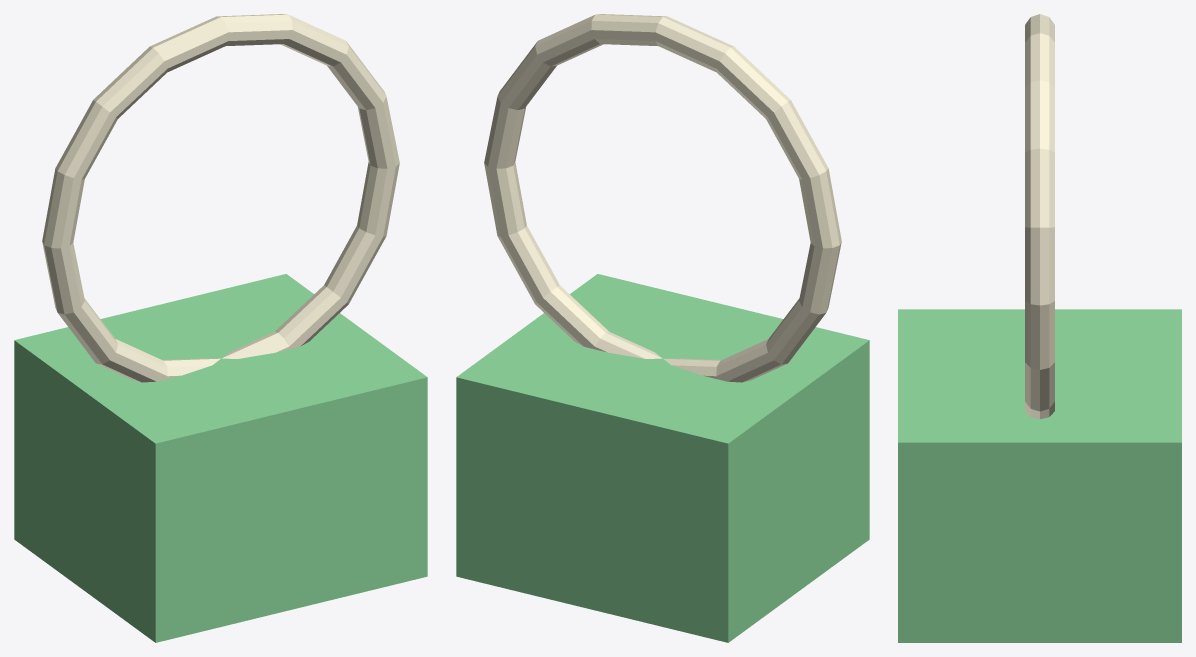
The model's file is pickup.castle-gate.v1.glb.
3 renders of one model, left to right at view 1: azimuth 30°, elevation 25°; view 2: azimuth 150°, elevation 25°; view 3: azimuth 270°, elevation 25°, orthographic.
Visible parts, largest first — view 1: pickup.castle-gate.v1_core, pickup.castle-gate.v1_trim; view 2: pickup.castle-gate.v1_core, pickup.castle-gate.v1_trim; view 3: pickup.castle-gate.v1_core, pickup.castle-gate.v1_trim.
Part boxes in pixels (x1=…): pickup.castle-gate.v1_core: x1=14, y1=274, x2=427, y2=642; pickup.castle-gate.v1_trim: x1=42, y1=14, x2=399, y2=382; pickup.castle-gate.v1_core: x1=456, y1=274, x2=869, y2=642; pickup.castle-gate.v1_trim: x1=484, y1=14, x2=841, y2=382; pickup.castle-gate.v1_core: x1=898, y1=309, x2=1181, y2=642; pickup.castle-gate.v1_trim: x1=1025, y1=14, x2=1054, y2=419.
Bounding box in the file's own units: 0.26 × 0.38 × 0.18.
